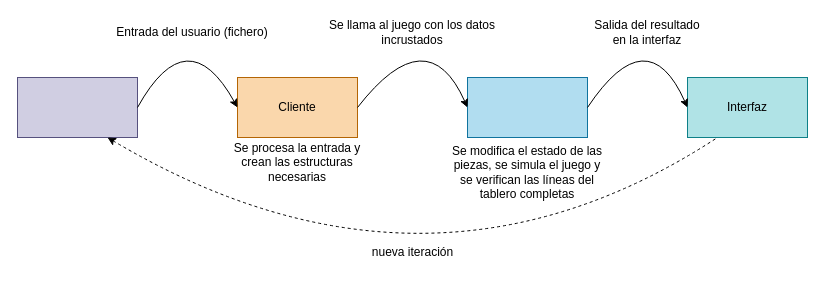
This 825x284 diagram has some shape labels left out. The centre of each missing label's shape, as x and y in pixels:
Datos de entrada del Cliente: (x=77, y=107)
Juego: (x=527, y=107)
